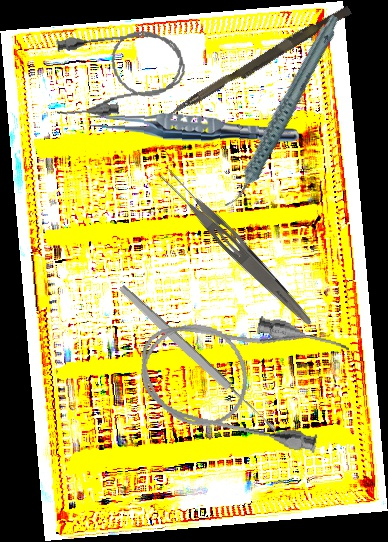Cannula: (129, 294, 353, 458), (46, 22, 191, 123)
Dressing Forceps: (154, 163, 321, 331)
Handpiece: (188, 12, 374, 211)
Pusher: (166, 0, 353, 125)
Surgical Spoon: (117, 283, 279, 435)
Tissue Forceps: (83, 108, 301, 148)
